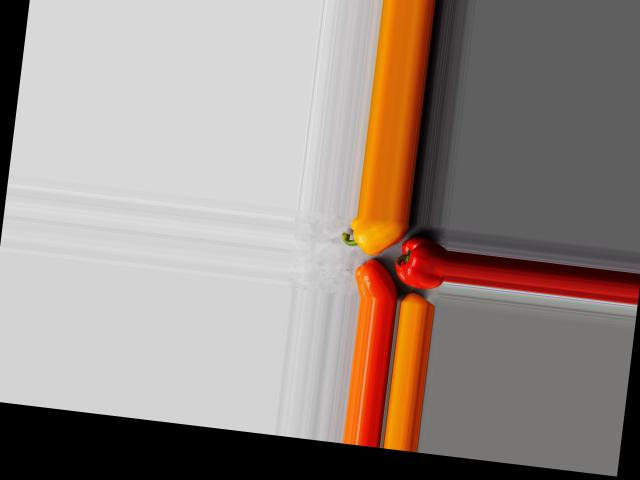bell_pepper: (392, 231, 447, 291)
